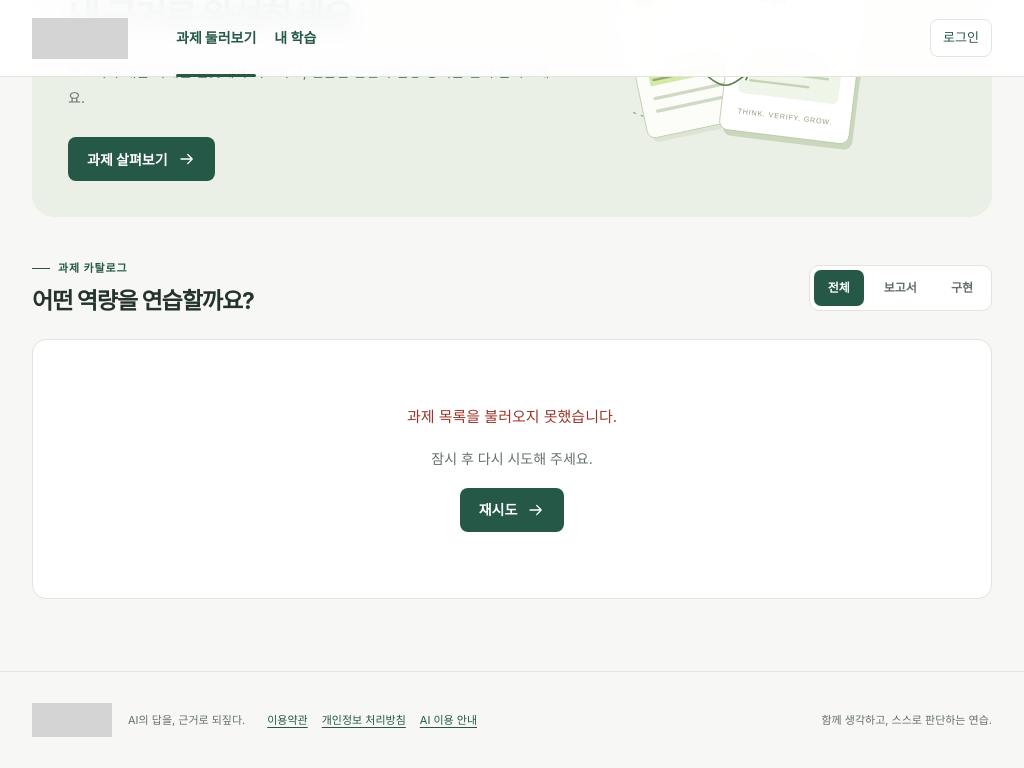
Test: reports network failure and retries the request successfully
This screenshot has width=1024, height=768.
(page scrolled)
Expected: the message reads "과제 목록을 불러오지 못했습니다.", [407,407,617,426]
Click the button "재시도" at x=512, y=510, box [460,488,564,532]
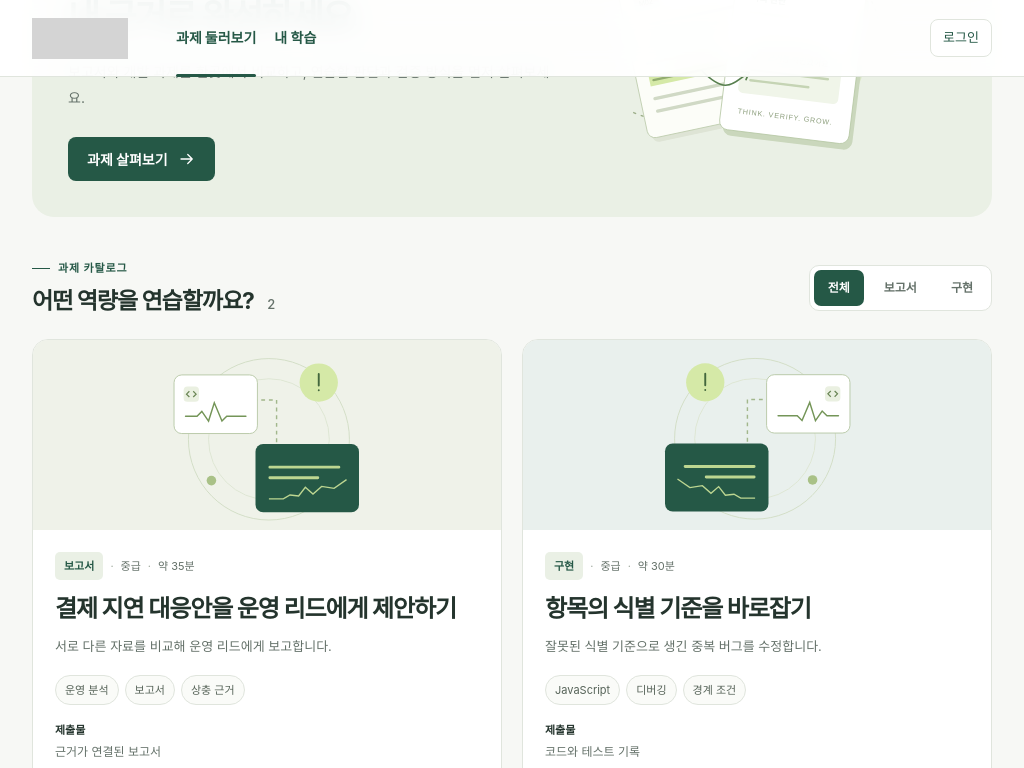
Expected: the link "결제 지연 대응안을 운영 리드에게 제안하기" is shown, [55,594,456,623]
